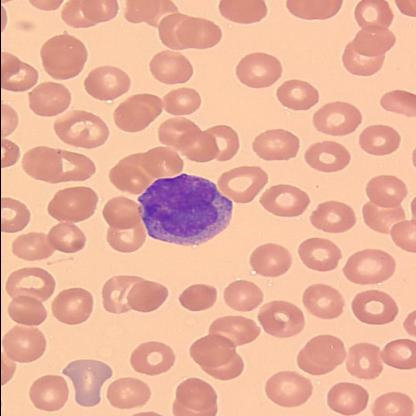Promyelocyte: (137, 172, 231, 245)
